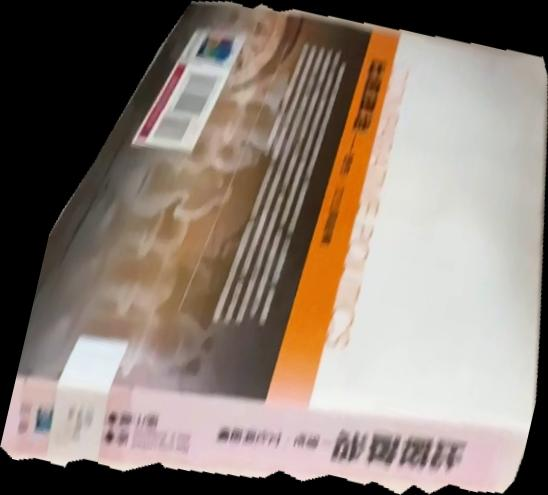flat: (1, 1, 548, 495)
